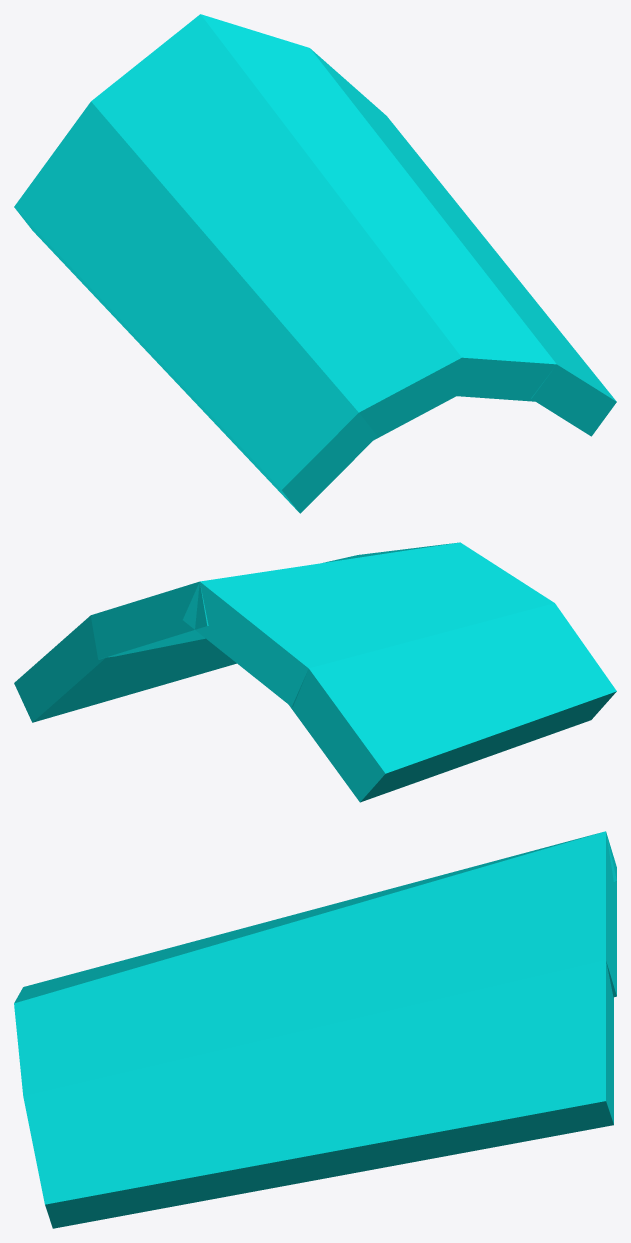
File: SM_Bld_Roof_Thatch_Preset_Overhang_01_Collision.fbx
3 views of the same model, one above another, from view 1: azimuth 30°, elevation 25°; view 2: azimuth 150°, elevation 25°; view 3: azimuth 270°, elevation 25° (orthographic). The views are drawn at different scales.
Visible parts, largest first — view 1: SM_Bld_Roof_Thatch_Preset_Overhang_01_Collision; view 2: SM_Bld_Roof_Thatch_Preset_Overhang_01_Collision; view 3: SM_Bld_Roof_Thatch_Preset_Overhang_01_Collision.
Boxes of the visible parts, <box> form: SM_Bld_Roof_Thatch_Preset_Overhang_01_Collision: <box>14,14,616,513</box>; SM_Bld_Roof_Thatch_Preset_Overhang_01_Collision: <box>14,542,616,802</box>; SM_Bld_Roof_Thatch_Preset_Overhang_01_Collision: <box>14,831,616,1228</box>.
Size of the model in its own units: 468 by 341 by 580.
